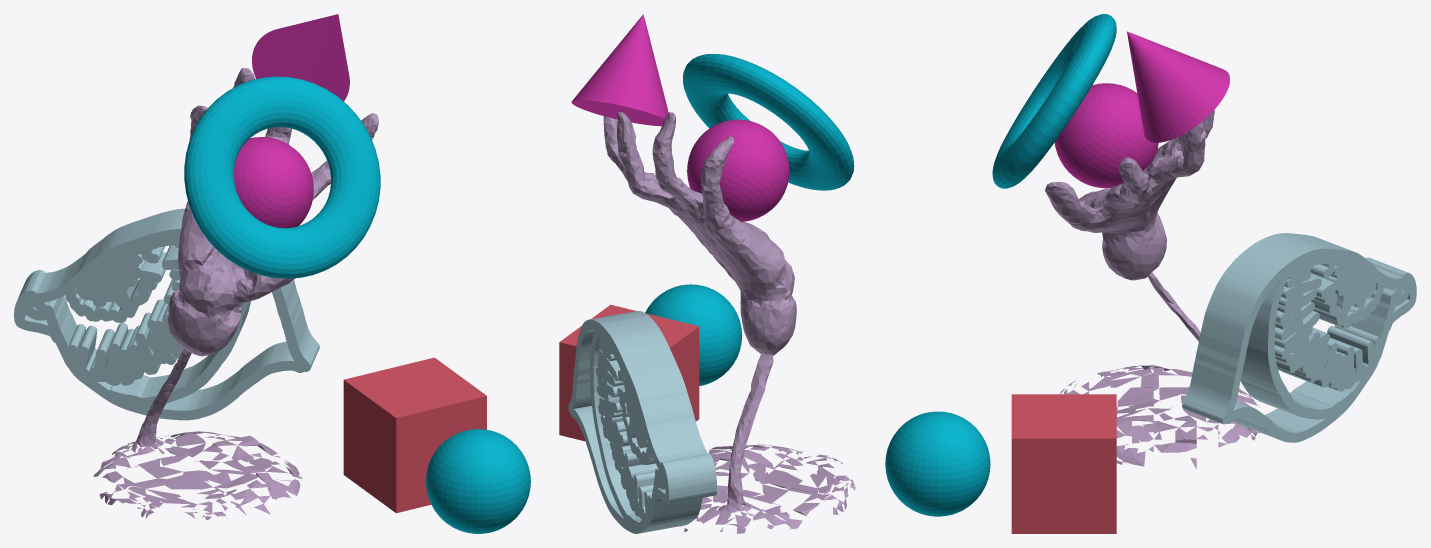
The model's file is hand_hiro.glb.
The picture shows the model from 3 angles, left to right: view 1: azimuth 30°, elevation 25°; view 2: azimuth 150°, elevation 25°; view 3: azimuth 270°, elevation 25°; orthographic projection. The views are drawn at different scales.
Visible parts, largest first — view 1: Mesh_Mesh_head_geo.001_lambert2SG.001; view 2: Mesh_Mesh_head_geo.001_lambert2SG.001; view 3: Mesh_Mesh_head_geo.001_lambert2SG.001.
Part boxes in pixels (box(x1,y1,x2,y2)): Mesh_Mesh_head_geo.001_lambert2SG.001: box(14, 14, 530, 533); Mesh_Mesh_head_geo.001_lambert2SG.001: box(559, 14, 856, 533); Mesh_Mesh_head_geo.001_lambert2SG.001: box(885, 14, 1416, 533).
Size of the model in its own units: 0.0682 by 0.0961 by 0.101.
